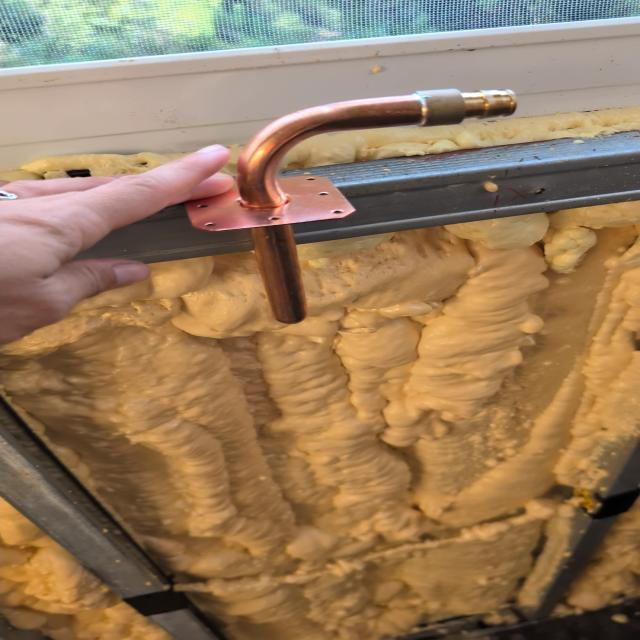wall_flange: (172, 84, 521, 328)
